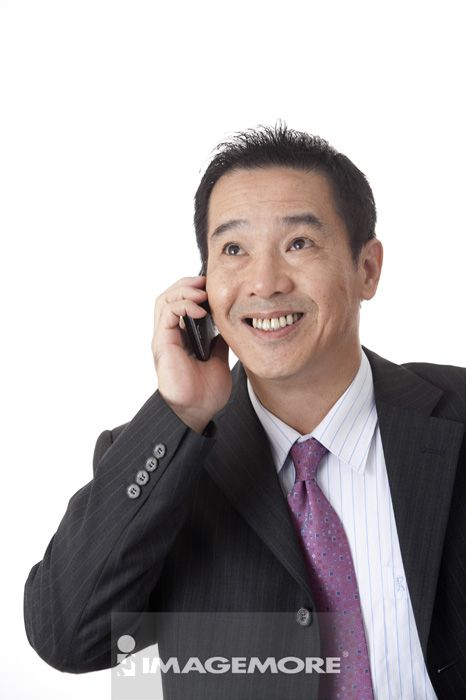talk: (148, 203, 334, 414)
